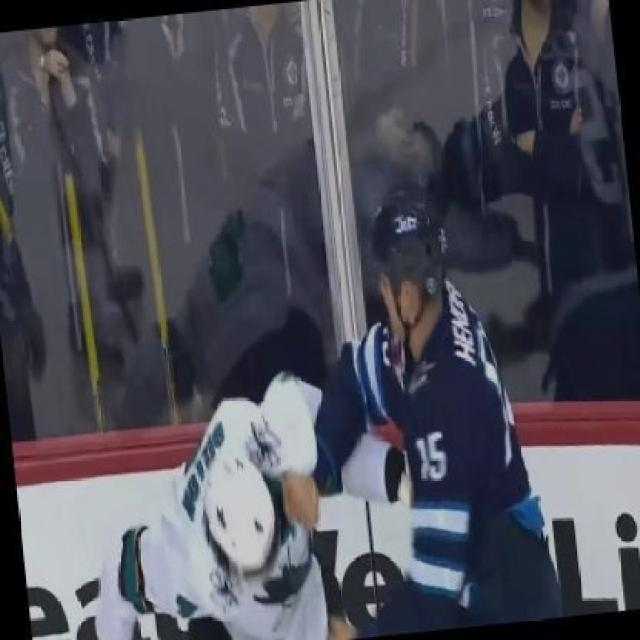fight: (92, 184, 566, 640)
